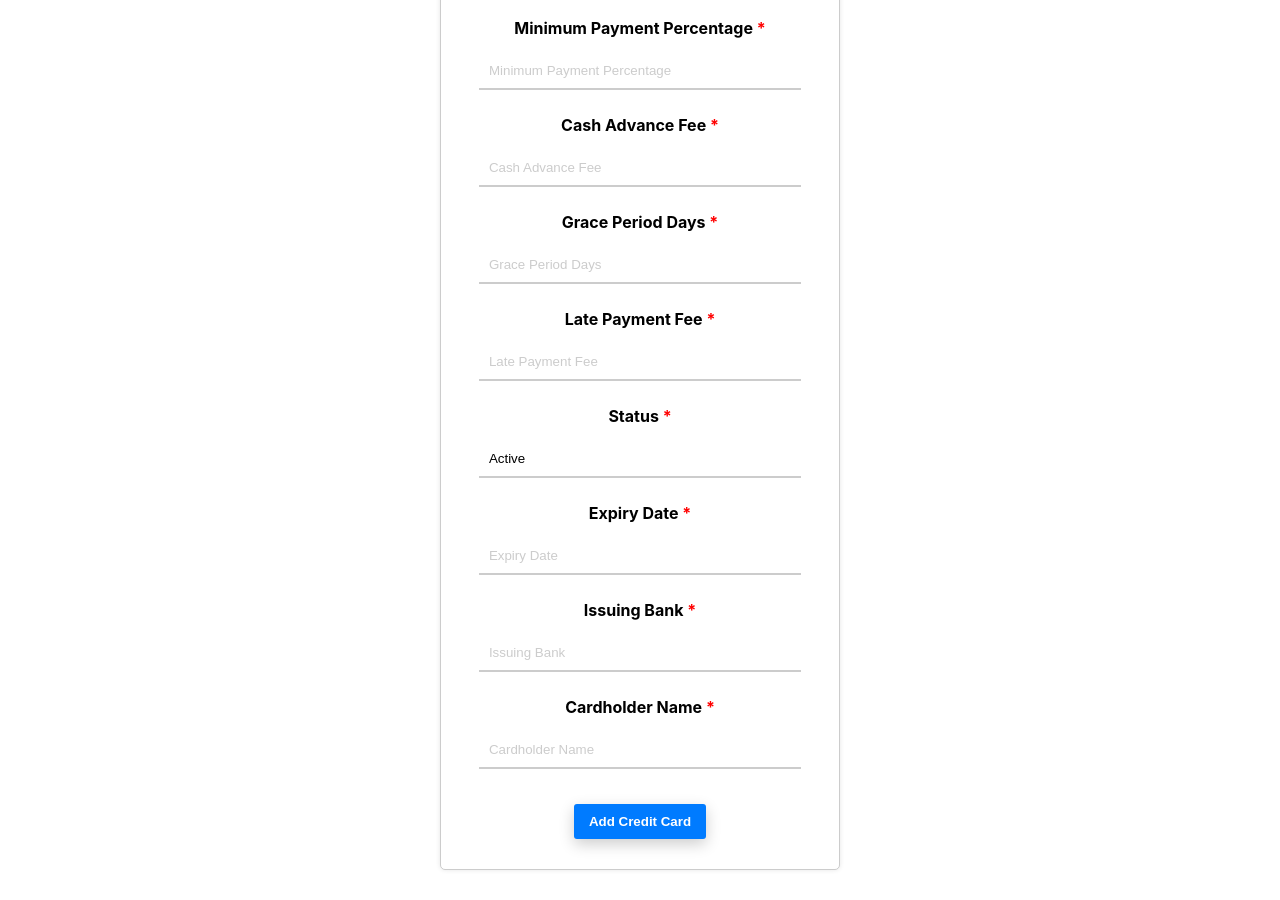
CreditCardForm Component › frontend_creditcardform_creditcard_manager_component_displays_required_validation_messages
The width and height of the screenshot is (1280, 900).
(page scrolled)
Click the button "Add Credit Card" at point(640, 822), box left=574, top=804, right=706, bottom=839
(page scrolled)
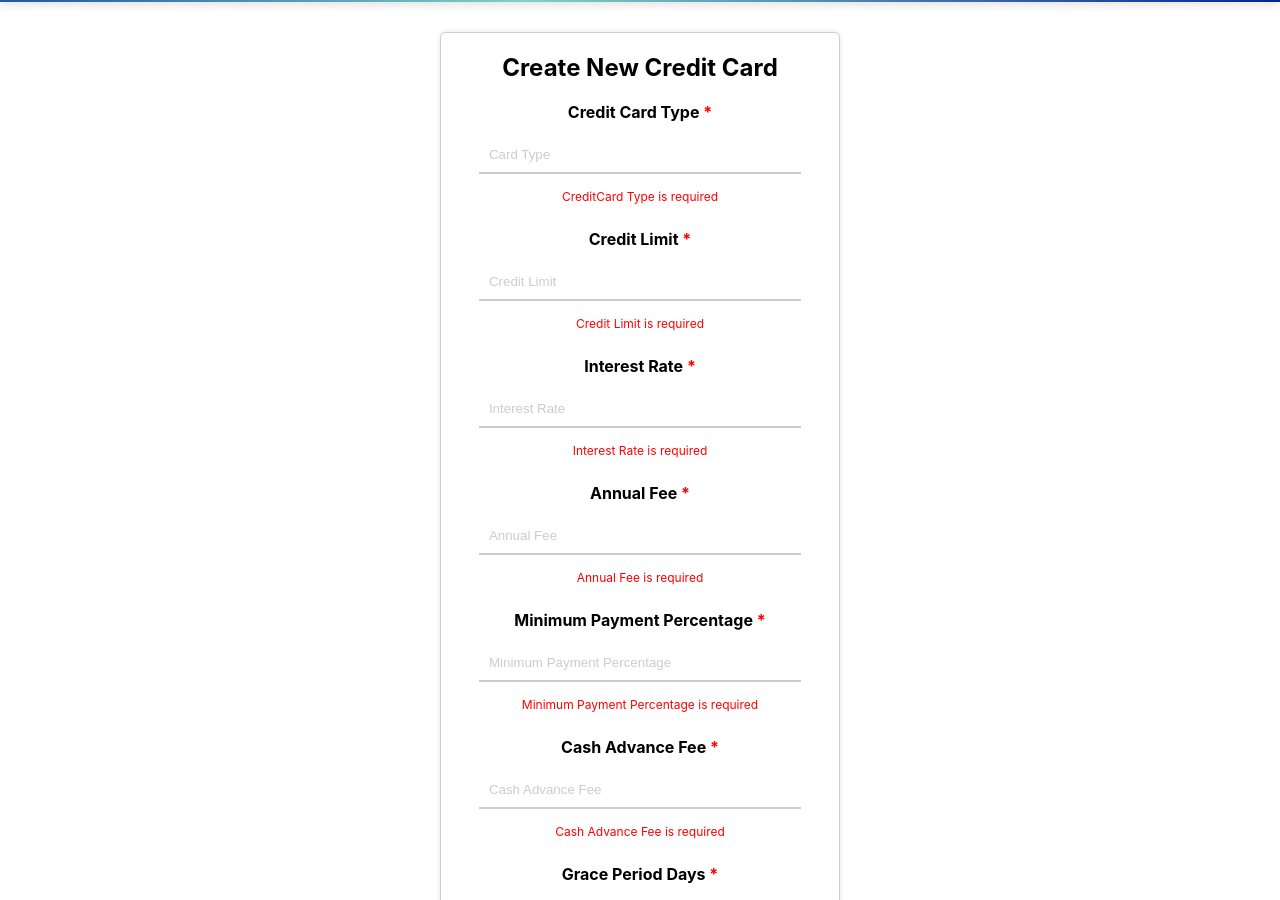
expect the text "CreditCard Type is required" is shown: met, box left=562, top=189, right=718, bottom=204
expect the text "Interest Rate is required" is shown: met, box left=573, top=443, right=707, bottom=458
